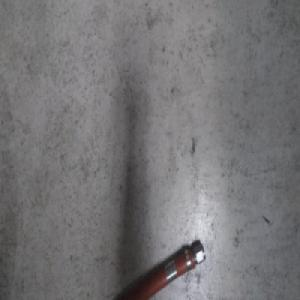Hose: (91, 237, 207, 300)
